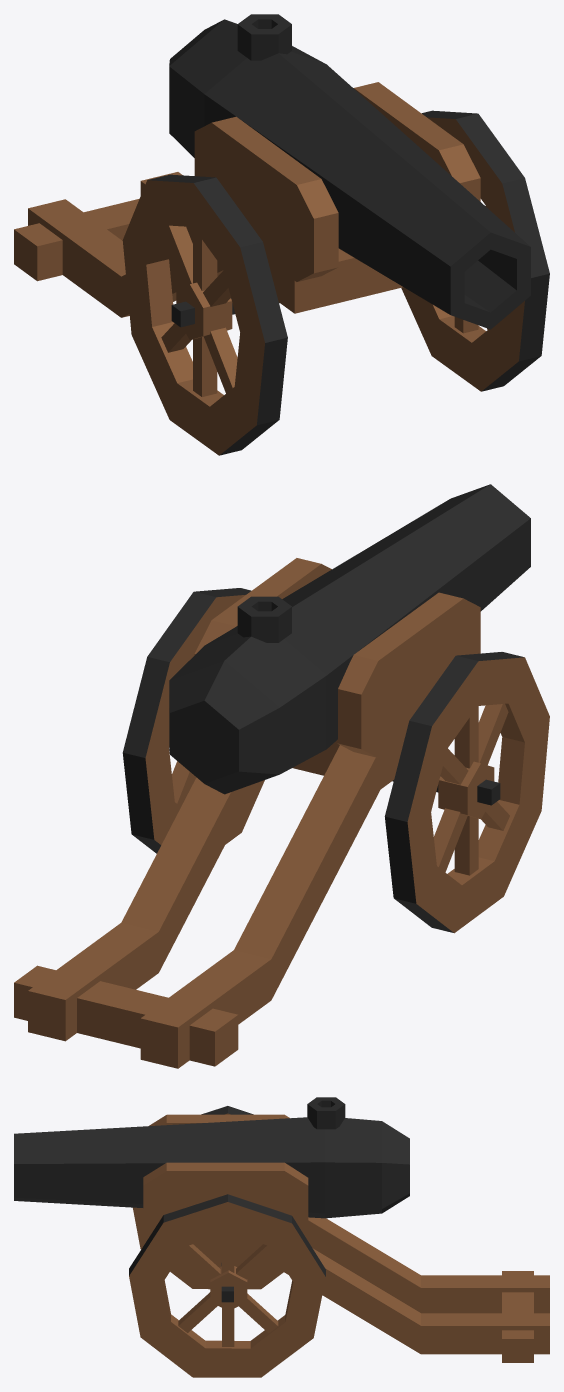
Rendered from cannon.1f6077e8.glb.
The picture shows the model from 3 angles, top to bottom: view 1: azimuth 30°, elevation 25°; view 2: azimuth 150°, elevation 25°; view 3: azimuth 270°, elevation 25°; orthographic projection. The views are drawn at different scales.
Parts seen in each view (by area): view 1: cannon-wheels, cannon-barrel, cannon-base; view 2: cannon-base, cannon-wheels, cannon-barrel; view 3: cannon-base, cannon-barrel, cannon-wheels.
Boxes of the visible parts, box(x1,y1,x2,y2) form: cannon-wheels: box(122, 110, 549, 455); cannon-barrel: box(169, 14, 530, 329); cannon-base: box(14, 82, 480, 317); cannon-base: box(14, 558, 480, 1068); cannon-wheels: box(122, 588, 549, 933); cannon-barrel: box(169, 484, 530, 794); cannon-base: box(143, 1114, 549, 1362); cannon-barrel: box(14, 1097, 409, 1218); cannon-wheels: box(129, 1106, 325, 1377).
Bounding box in the file's own units: 1.81 × 1.77 × 3.81.
